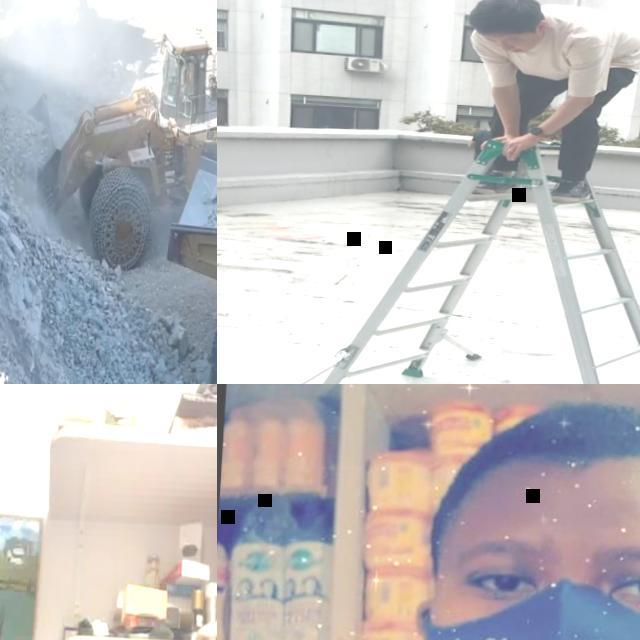Robbery: (415, 398, 640, 640), (444, 0, 640, 219)
